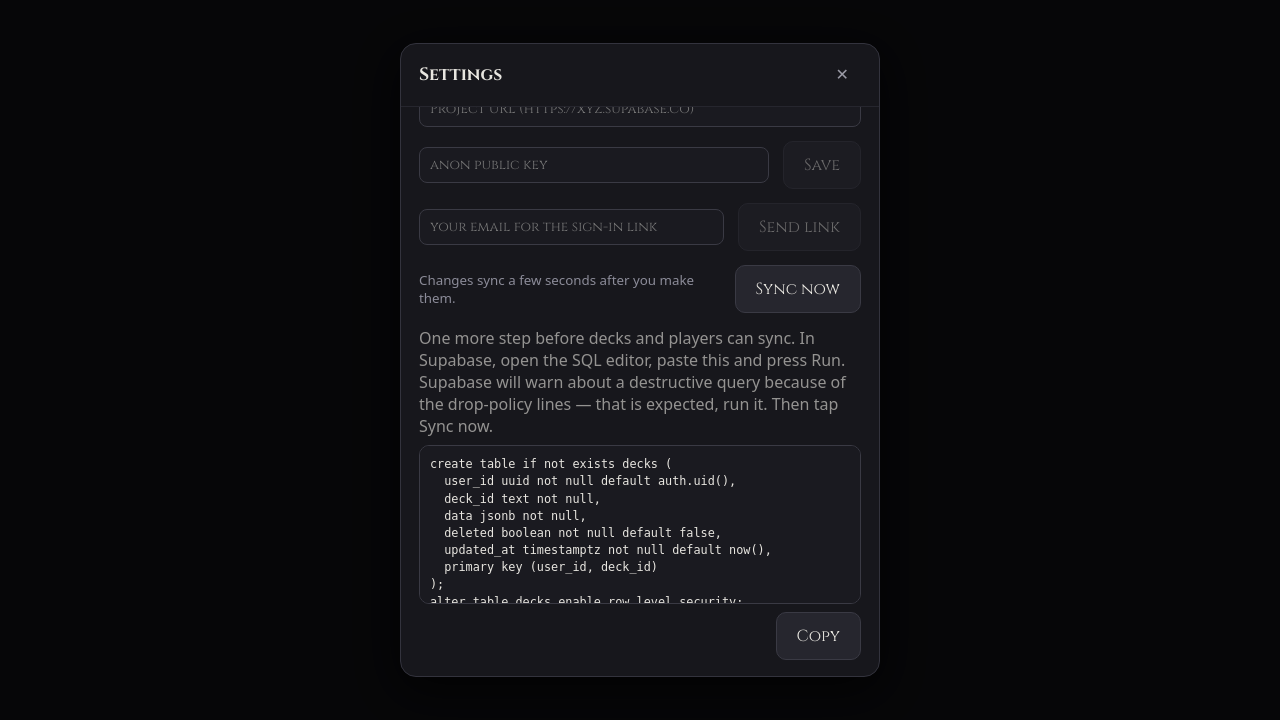
it: where there is no clipboard to write to, Copy selects the SQL for a copy by hand
(page scrolled)
Click the button "Copy" at (818,636), box [776,612,861,660]
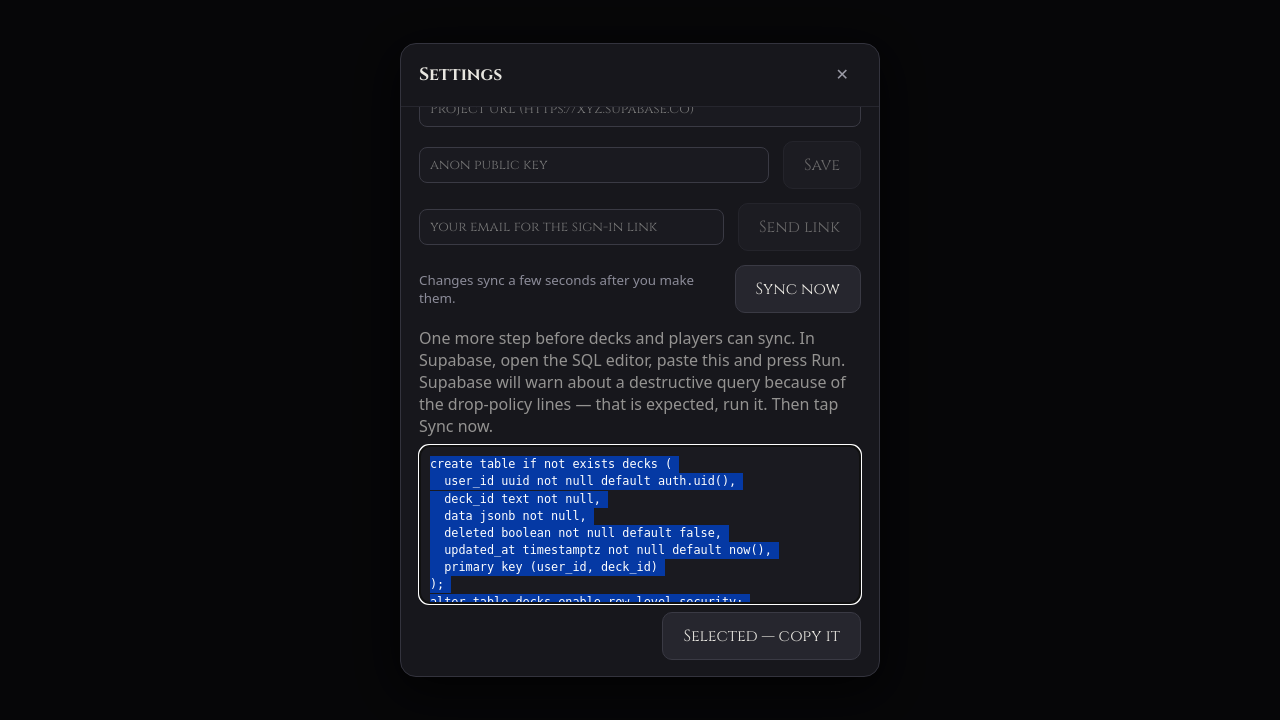
Expected: the button "Selected — copy it" is shown, [662,612,861,660]
